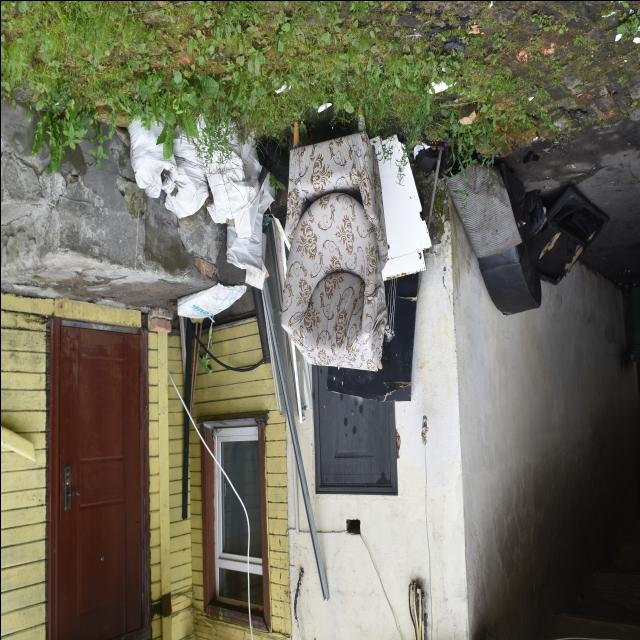entulho: (260, 260, 329, 606), (180, 320, 196, 518)
lixo domiciliar: (278, 102, 388, 376), (466, 156, 542, 328), (327, 269, 419, 406), (354, 128, 434, 273), (522, 185, 614, 288), (222, 163, 276, 271), (125, 106, 177, 206), (201, 120, 250, 222), (160, 126, 208, 222), (175, 275, 248, 325)
